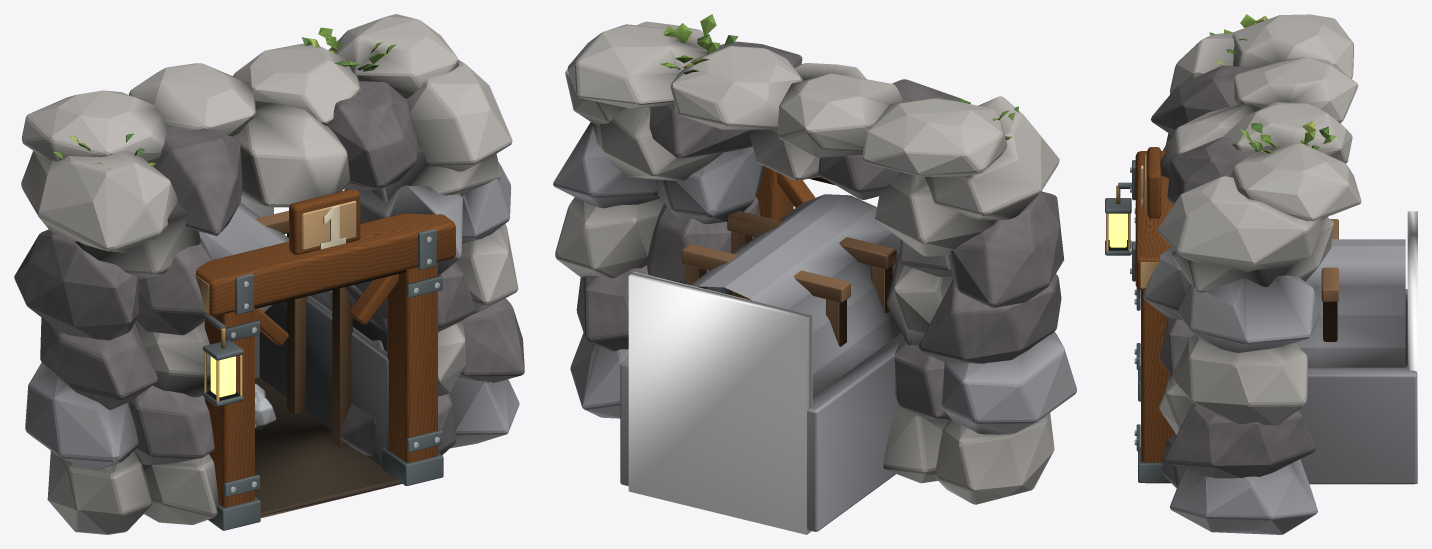
The model's file is TimberBunker.fbx.
The picture shows the model from 3 angles, left to right: view 1: azimuth 30°, elevation 25°; view 2: azimuth 150°, elevation 25°; view 3: azimuth 270°, elevation 25°; orthographic projection. The views are drawn at different scales.
Parts seen in each view (by area): view 1: TimberBunker_RockLight, TimberBunker_Rock, TimberBunker_Oak, TimberBunker_RockShadow, TimberBunker_EarthCut, TimberBunker_BlackIron, TimberBunker_TunnelOak, TimberBunker_OakEnd, TimberBunker_LanternGlow, TimberBunker_Ore, TimberBunker_Leaf; view 2: TimberBunker_RockLight, TimberBunker_RockShadow, TimberBunker_TunnelBlack, TimberBunker_Rock, TimberBunker_TunnelOak, TimberBunker_Oak, TimberBunker_Leaf; view 3: TimberBunker_RockLight, TimberBunker_RockShadow, TimberBunker_Rock, TimberBunker_Oak, TimberBunker_BlackIron, TimberBunker_TunnelBlack, TimberBunker_TunnelOak, TimberBunker_Leaf, TimberBunker_LanternGlow, TimberBunker_OakEnd.
Part boxes in pixels (box(x1,y1,x2,y2)): TimberBunker_RockLight: box(21, 14, 518, 534); TimberBunker_Rock: box(14, 81, 524, 465); TimberBunker_Oak: box(195, 189, 455, 507); TimberBunker_RockShadow: box(25, 162, 519, 470); TimberBunker_EarthCut: box(255, 377, 402, 518); TimberBunker_BlackIron: box(202, 229, 443, 530); TimberBunker_TunnelOak: box(255, 210, 405, 446); TimberBunker_OakEnd: box(195, 200, 455, 313); TimberBunker_LanternGlow: box(210, 356, 235, 397); TimberBunker_Ore: box(255, 384, 276, 429); TimberBunker_Leaf: box(53, 27, 396, 164); TimberBunker_RockLight: box(555, 21, 1059, 504); TimberBunker_RockShadow: box(553, 122, 1076, 531); TimberBunker_TunnelBlack: box(628, 271, 812, 534); TimberBunker_Rock: box(576, 41, 1064, 420); TimberBunker_TunnelOak: box(681, 177, 896, 346); TimberBunker_Oak: box(756, 166, 824, 220); TimberBunker_Leaf: box(660, 14, 1015, 139); TimberBunker_RockLight: box(1157, 14, 1361, 434); TimberBunker_RockShadow: box(1143, 239, 1417, 534); TimberBunker_Rock: box(1151, 65, 1328, 488); TimberBunker_Oak: box(1135, 147, 1175, 483); TimberBunker_BlackIron: box(1105, 160, 1170, 482); TimberBunker_TunnelBlack: box(1407, 211, 1417, 483); TimberBunker_TunnelOak: box(1321, 219, 1338, 341); TimberBunker_Leaf: box(1224, 14, 1336, 154); TimberBunker_LanternGlow: box(1109, 213, 1126, 247); TimberBunker_OakEnd: box(1140, 154, 1159, 288).
Bounding box in the file's own units: 4.34 × 3.52 × 2.7.
17 materials, 2 textured.
